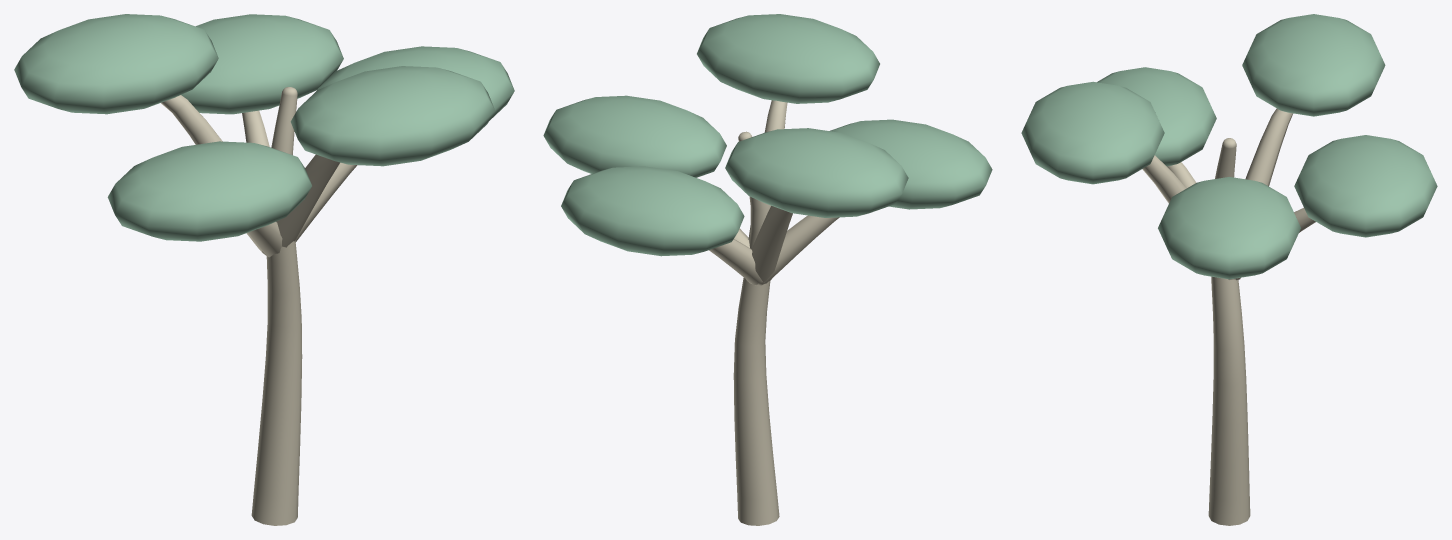
The model's file is outback-and-australian-wildlife-ghost-gum-eucalyptus-960b6a83__5929.glb.
3 views of the same model, side by side, from view 1: azimuth 30°, elevation 25°; view 2: azimuth 150°, elevation 25°; view 3: azimuth 270°, elevation 25° (orthographic). The views are drawn at different scales.
Parts seen in each view (by area): view 1: ghost-gum-eucalyptus; view 2: ghost-gum-eucalyptus; view 3: ghost-gum-eucalyptus.
Part boxes in pixels (x1,y1,x2,y2): ghost-gum-eucalyptus: [14, 14, 514, 525]; ghost-gum-eucalyptus: [543, 14, 992, 525]; ghost-gum-eucalyptus: [1021, 14, 1437, 525].
Size of the model in its own units: 3.51 by 3.67 by 3.19.
